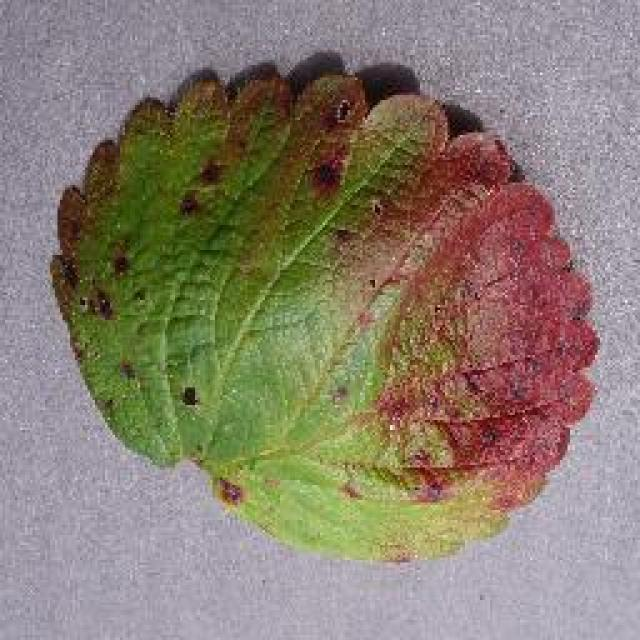Strawberry leaf scorch: (72, 40, 615, 473)
